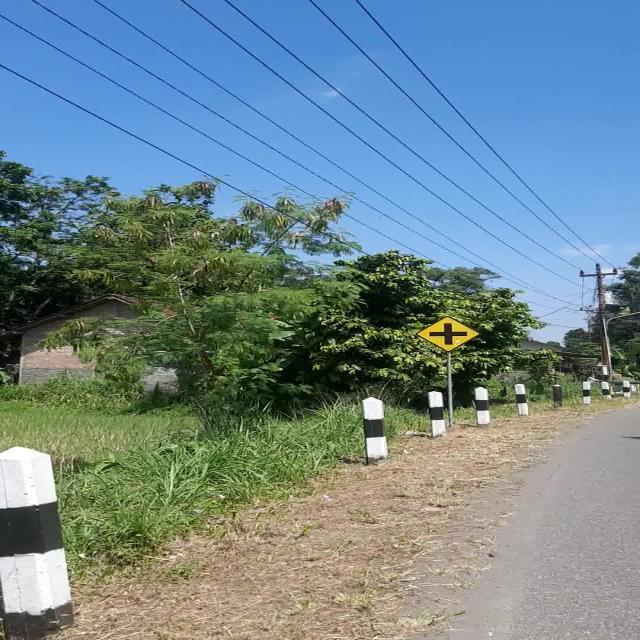Persimpangan 4: (416, 316, 482, 352)
